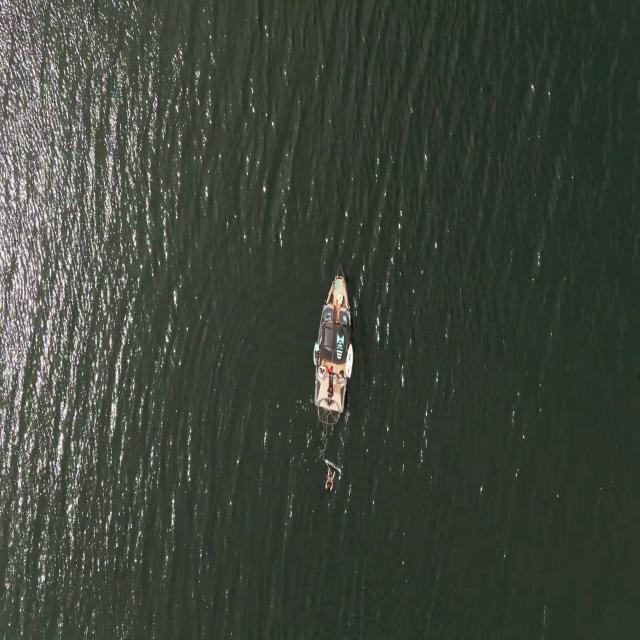ship: (312, 264, 349, 425), (342, 343, 355, 379)
